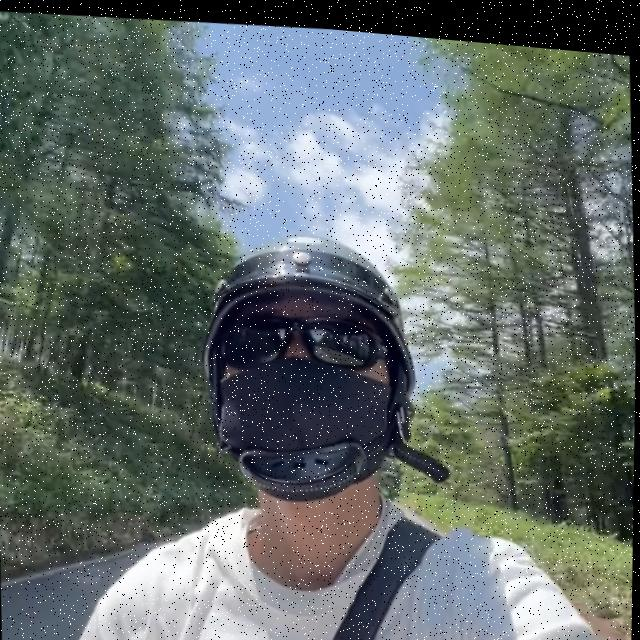helmet: (185, 209, 428, 515)
